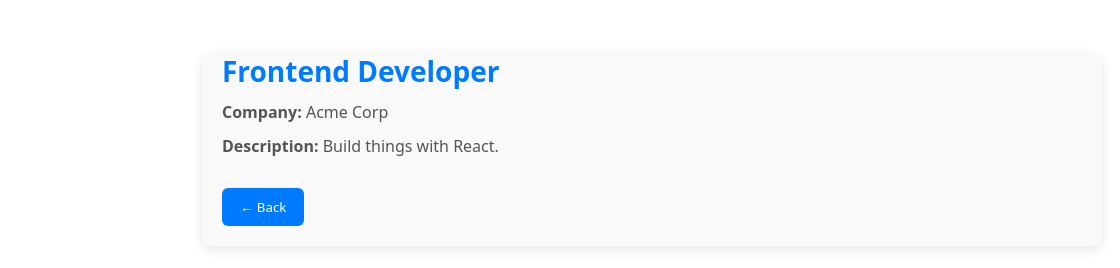
Test: JobDetails › goes back to the previous page when clicking Back
Click the button "← Back".
click(263, 207)  # box [222, 188, 304, 226]
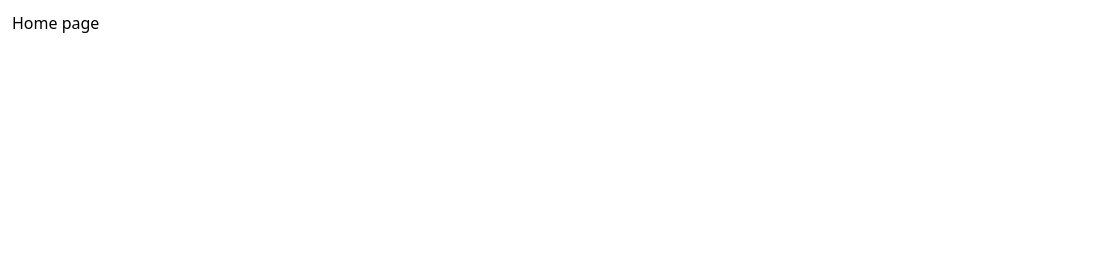
Result: the text "Home page" is shown at [12, 12, 99, 34]
